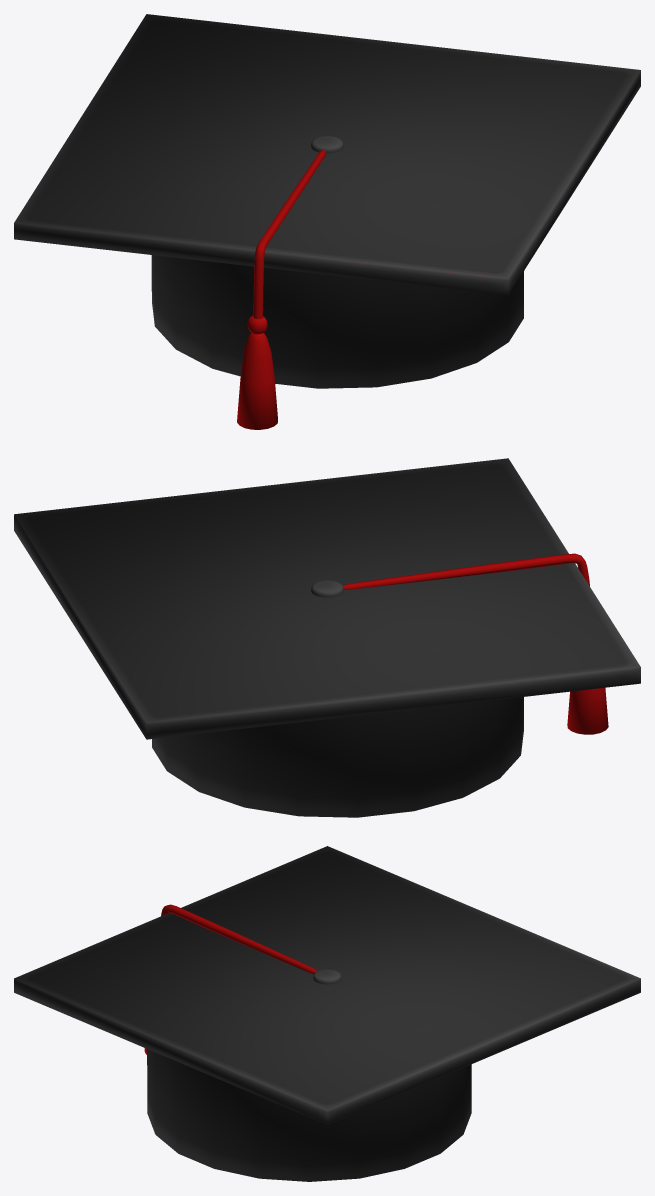
Rendered from Graduation Hat.fbx.
3 renders of one model, top to bottom at view 1: azimuth 30°, elevation 25°; view 2: azimuth 150°, elevation 25°; view 3: azimuth 270°, elevation 25°, orthographic. The views are drawn at different scales.
Visible parts, largest first — view 1: Graduationcap; view 2: Graduationcap; view 3: Graduationcap.
Boxes of the visible parts, x1,y1,x2,y2 form: Graduationcap: (14,14,640,429); Graduationcap: (14,458,640,817); Graduationcap: (14,846,640,1181).
Size of the model in its own units: 60.01 by 16.17 by 60.01.
